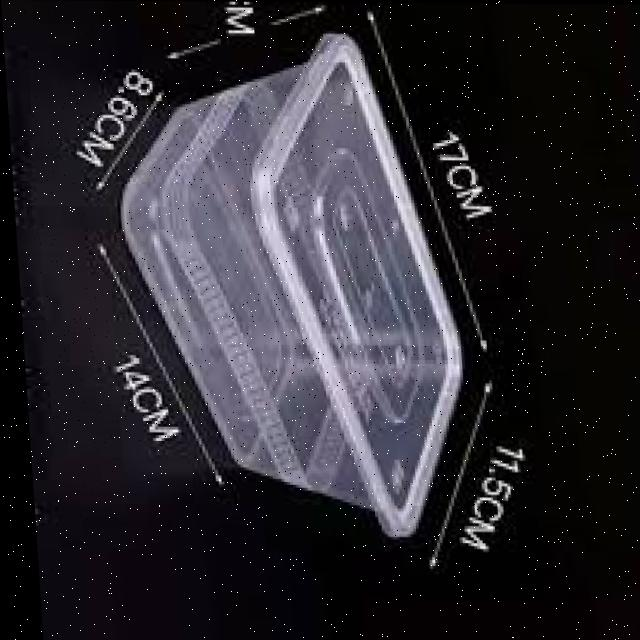disposable: (103, 69, 487, 522)
